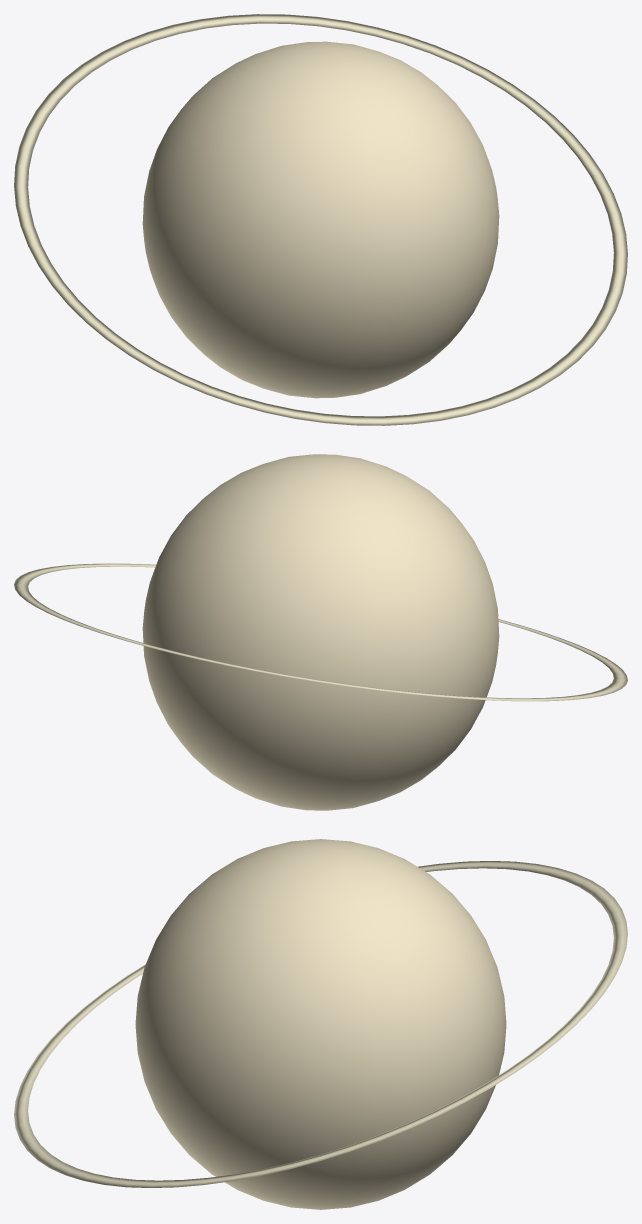
The model's file is saturn.glb.
3 renders of one model, top to bottom at view 1: azimuth 30°, elevation 25°; view 2: azimuth 150°, elevation 25°; view 3: azimuth 270°, elevation 25°, orthographic. The views are drawn at different scales.
Parts seen in each view (by area): view 1: Icosphere; view 2: Icosphere; view 3: Icosphere.
Boxes of the visible parts, left/top/right/bottom form: Icosphere: left=14, top=14, right=627, bottom=425; Icosphere: left=14, top=454, right=627, bottom=810; Icosphere: left=14, top=839, right=627, bottom=1209.
Bounding box in the file's own units: 0.28 × 0.1609 × 0.2663.
